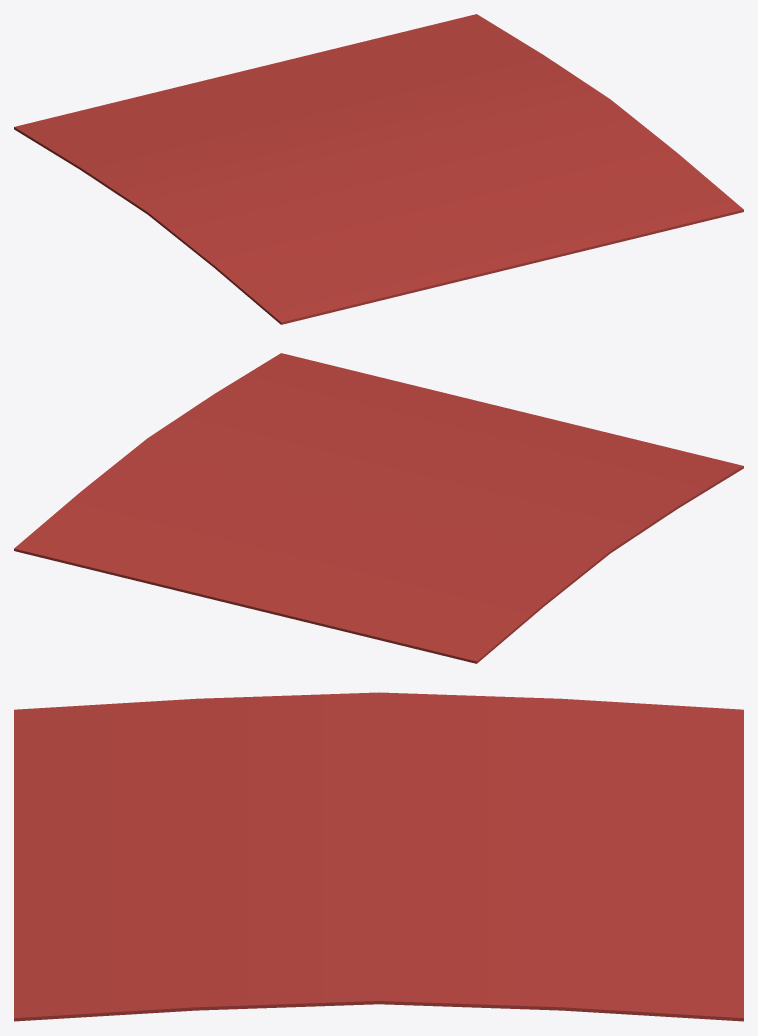
File: plastic_tip_lod2.glb
3 renders of one model, top to bottom at view 1: azimuth 30°, elevation 25°; view 2: azimuth 150°, elevation 25°; view 3: azimuth 270°, elevation 25°, orthographic. The views are drawn at different scales.
Visible parts, largest first — view 1: plastic_tip_lod2; view 2: plastic_tip_lod2; view 3: plastic_tip_lod2.
Boxes of the visible parts, x1,y1,x2,y2 form: plastic_tip_lod2: (14,14,743,324); plastic_tip_lod2: (14,353,743,663); plastic_tip_lod2: (14,692,743,1021).
Bounding box in the file's own units: 1 × 0.031 × 1.
